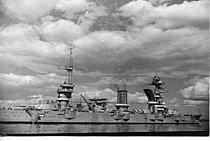MIL_Ship: (1, 47, 201, 125)
